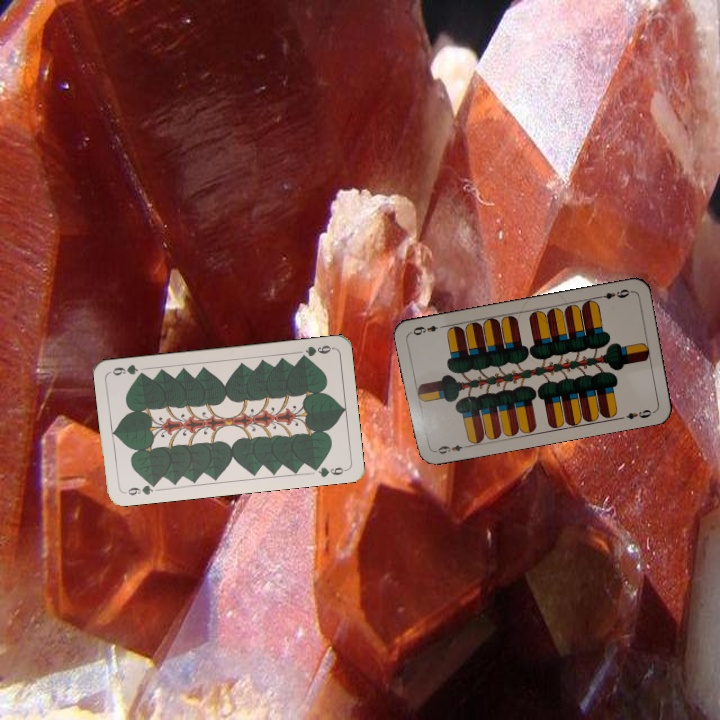E9: (593, 285, 632, 302), (430, 441, 470, 457)
G9: (296, 341, 336, 362), (120, 478, 161, 498)
